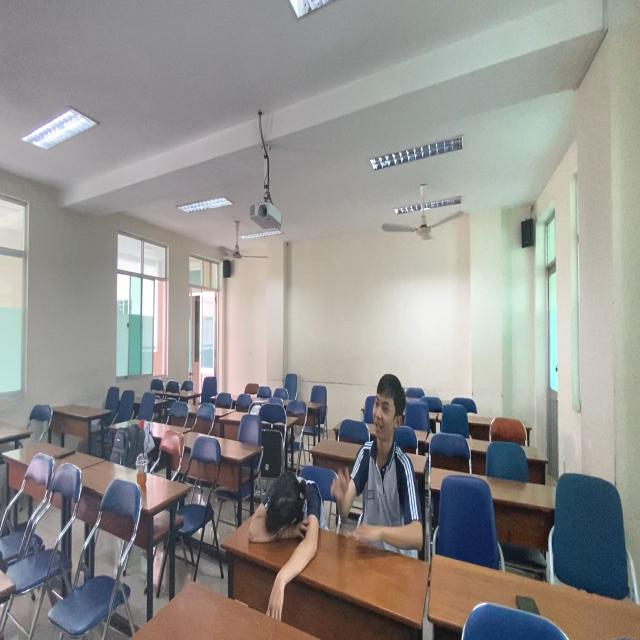sleep: (244, 470, 327, 591)
